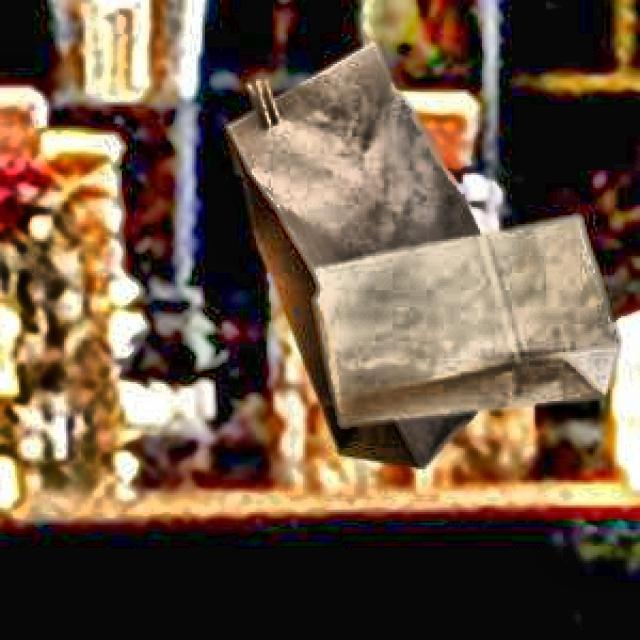Paper-bag: (234, 32, 510, 477), (301, 204, 636, 428)
